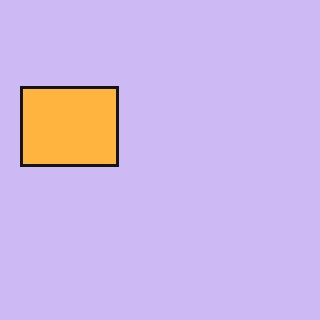square_target: (21, 87, 119, 166)
